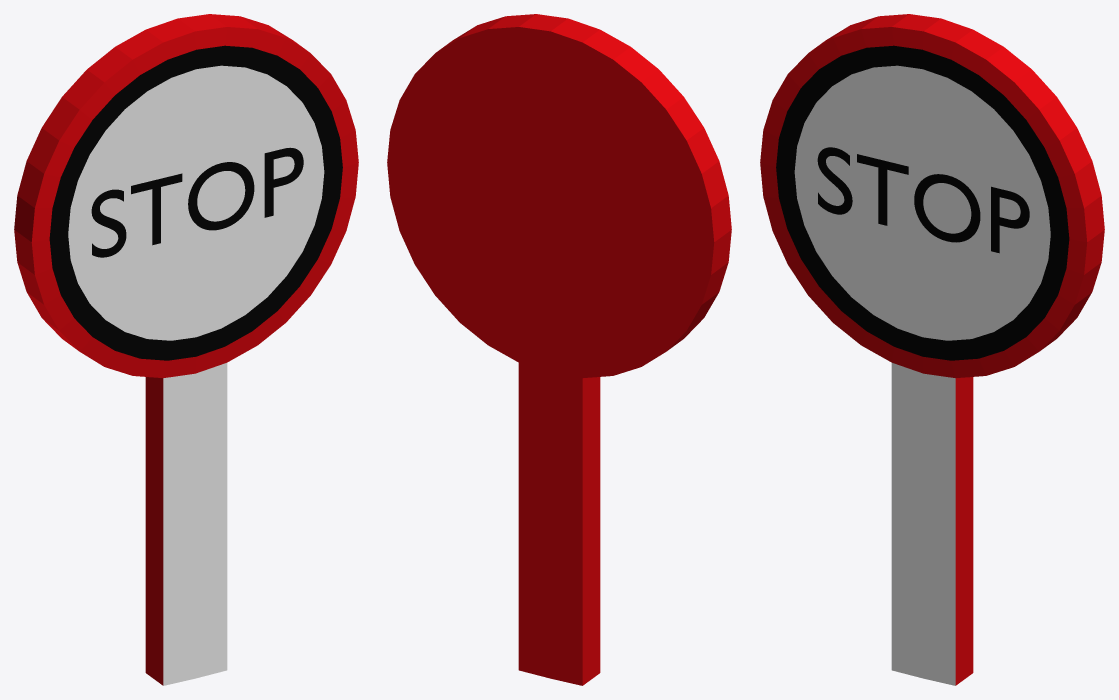
The model's file is Stop2.fbx.
3 views of the same model, side by side, from view 1: azimuth 30°, elevation 25°; view 2: azimuth 150°, elevation 25°; view 3: azimuth 330°, elevation 25° (orthographic).
Visible parts, largest first — view 1: Cylinder, Text; view 2: Cylinder; view 3: Cylinder, Text.
Part boxes in pixels (x1,y1,x2,y2): Cylinder: (14, 14, 358, 685); Text: (91, 147, 303, 257); Cylinder: (387, 14, 731, 685); Cylinder: (760, 14, 1104, 685); Text: (817, 147, 1029, 253).
Size of the model in its own units: 200 by 378 by 19.89.
